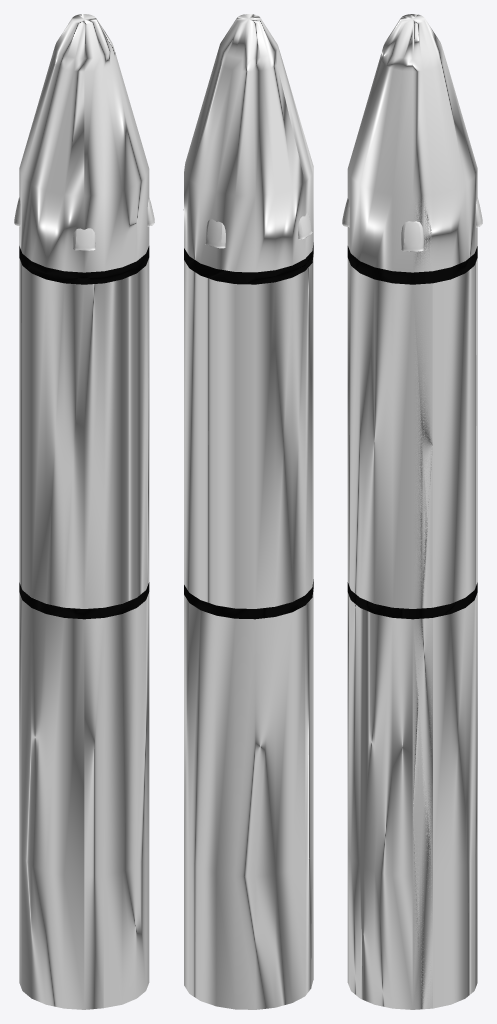
The model's file is jupiter-c-first-stage.glb.
The picture shows the model from 3 angles, left to right: view 1: azimuth 90°, elevation 25°; view 2: azimuth 150°, elevation 25°; view 3: azimuth 270°, elevation 25°; orthographic projection.
Visible parts, largest first — view 1: first-stage; view 2: first-stage; view 3: first-stage.
Part boxes in pixels (bbox=[...]): first-stage: bbox=[14, 14, 154, 1009]; first-stage: bbox=[183, 14, 313, 1009]; first-stage: bbox=[342, 14, 482, 1009].
Size of the model in its own units: 1.99 by 15.03 by 1.99.
1 material, 1 textured.
